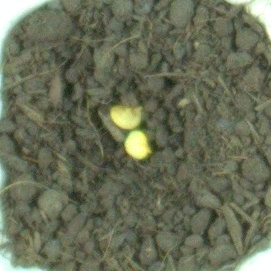pepper seed: (45, 50, 200, 212), (34, 38, 181, 169)
